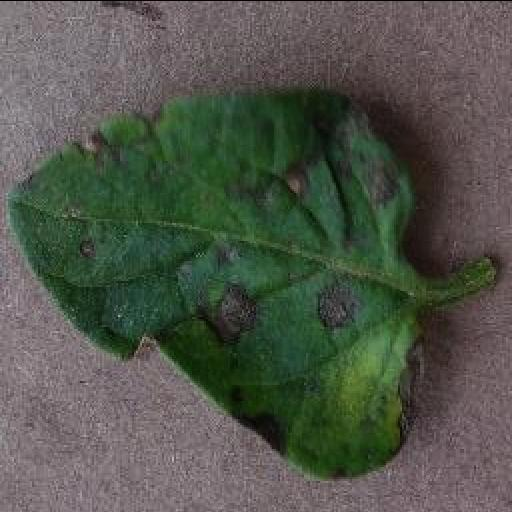disease_tomato: (9, 90, 431, 480)
